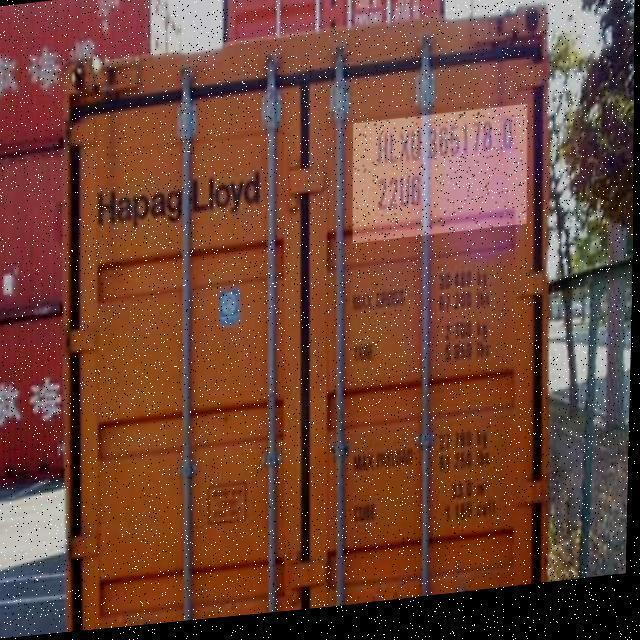ISO: (370, 172, 430, 210)
container_number: (368, 110, 524, 160)
